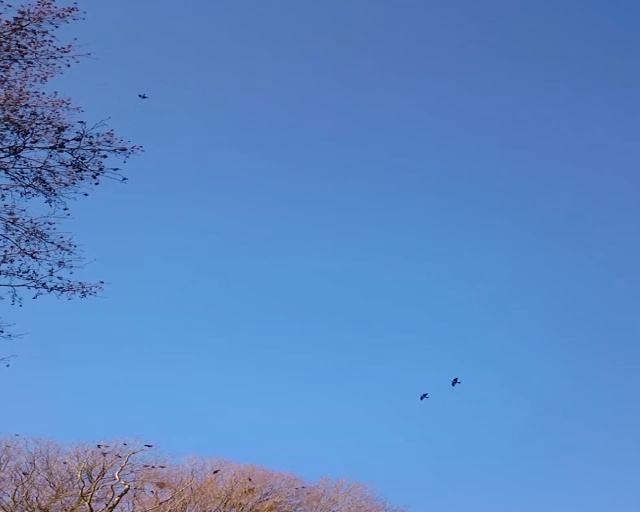BIRD: (451, 376, 460, 386)
